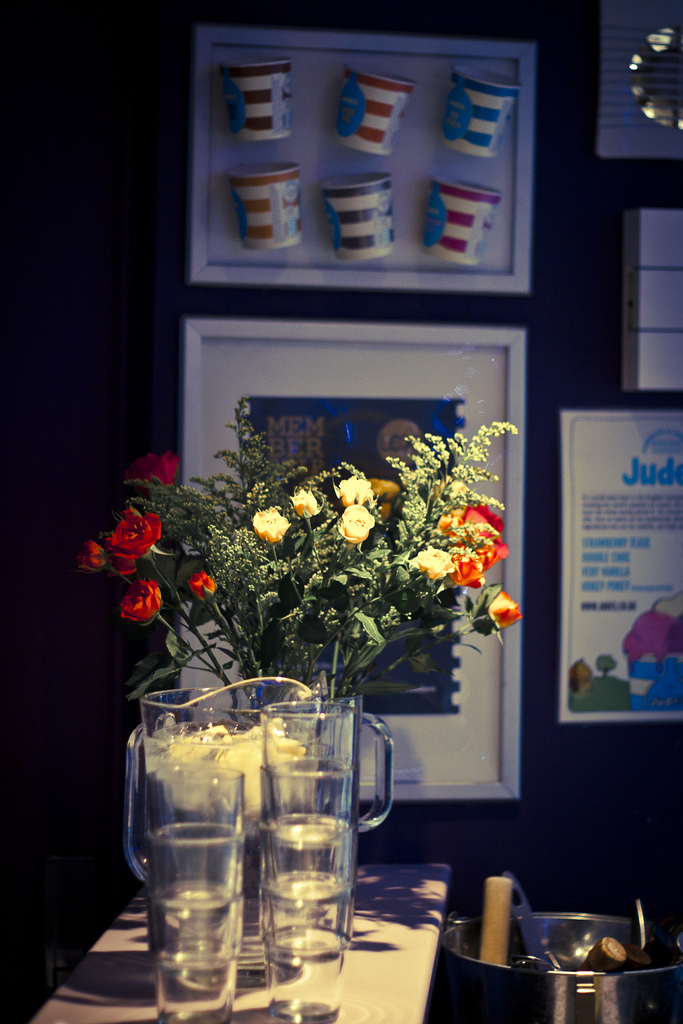glass of water: (243, 757, 358, 1024), (143, 741, 247, 1024)
